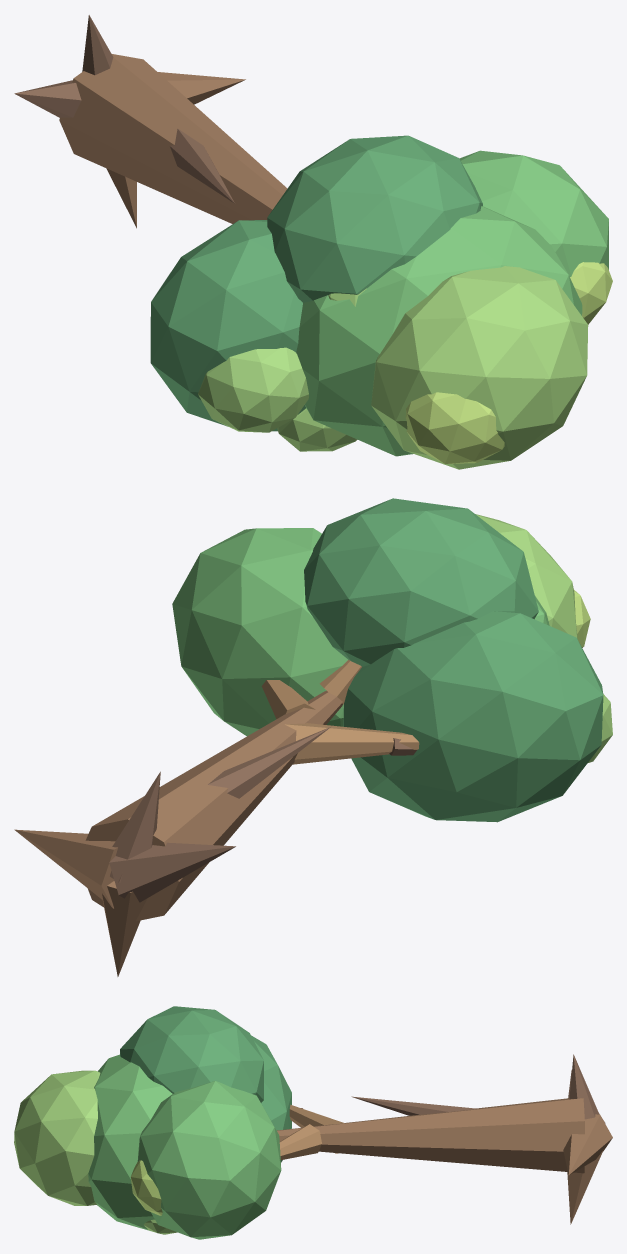
Rendered from FuelUp_LowPoly_Tree.glb.
The picture shows the model from 3 angles, top to bottom: view 1: azimuth 30°, elevation 25°; view 2: azimuth 150°, elevation 25°; view 3: azimuth 270°, elevation 25°; orthographic projection. The views are drawn at different scales.
Parts seen in each view (by area): view 1: Foliage_Top, Foliage_Lower_Back, Foliage_Core, Foliage_Lower_Left, Trunk_Main_Continuous, Foliage_Lower_Right, Foliage_Side_Accent, Foliage_Top_Accent, Leaf_Facet_01, Trunk_Back_Branch, Foliage_Side_Accent_R, Root_02 (+3 smaller); view 2: Foliage_Lower_Left, Foliage_Lower_Back, Foliage_Lower_Right, Trunk_Main_Continuous, Root_02, Foliage_Top, Root_01, Branch_Left, Trunk_Back_Branch, Root_03, Root_04, Branch_Right (+1 smaller); view 3: Foliage_Lower_Right, Trunk_Main_Continuous, Foliage_Lower_Back, Foliage_Top, Foliage_Core, Foliage_Lower_Left, Root_01, Branch_Right, Foliage_Side_Accent_R, Trunk_Back_Branch, Root_03, Root_04 (+1 smaller).
Part boxes in pixels (<box>): Foliage_Top: <box>371,266,588,469</box>; Foliage_Lower_Back: <box>267,135,482,302</box>; Foliage_Core: <box>296,206,582,456</box>; Foliage_Lower_Left: <box>150,220,305,431</box>; Trunk_Main_Continuous: <box>59,54,287,223</box>; Foliage_Lower_Right: <box>459,150,608,276</box>; Foliage_Side_Accent: <box>198,347,308,432</box>; Foliage_Top_Accent: <box>405,392,504,463</box>; Leaf_Facet_01: <box>277,408,357,451</box>; Trunk_Back_Branch: <box>170,129,234,203</box>; Foliage_Side_Accent_R: <box>570,262,612,324</box>; Root_02: <box>14,80,81,117</box>; Foliage_Lower_Left: <box>343,611,603,822</box>; Foliage_Lower_Back: <box>304,498,538,666</box>; Foliage_Lower_Right: <box>172,528,347,736</box>; Trunk_Main_Continuous: <box>85,690,342,921</box>; Root_02: <box>109,842,235,902</box>; Foliage_Top: <box>475,514,577,638</box>; Root_01: <box>14,829,117,908</box>; Branch_Left: <box>285,723,419,764</box>; Trunk_Back_Branch: <box>208,726,331,798</box>; Root_03: <box>102,881,147,976</box>; Root_04: <box>110,771,160,882</box>; Branch_Right: <box>261,680,315,718</box>; Foliage_Lower_Right: <box>137,1081,281,1239</box>; Trunk_Main_Continuous: <box>277,1098,584,1173</box>; Foliage_Lower_Back: <box>120,1006,263,1102</box>; Foliage_Top: <box>14,1070,100,1205</box>; Foliage_Core: <box>88,1054,172,1230</box>; Foliage_Lower_Left: <box>251,1035,291,1162</box>; Root_01: <box>563,1114,612,1174</box>; Branch_Right: <box>279,1124,321,1159</box>; Foliage_Side_Accent_R: <box>130,1160,162,1215</box>; Trunk_Back_Branch: <box>351,1096,477,1115</box>; Root_03: <box>567,1149,603,1224</box>; Root_04: <box>569,1054,599,1119</box>.
Size of the model in its own units: 3.54 by 2.28 by 6.17.
